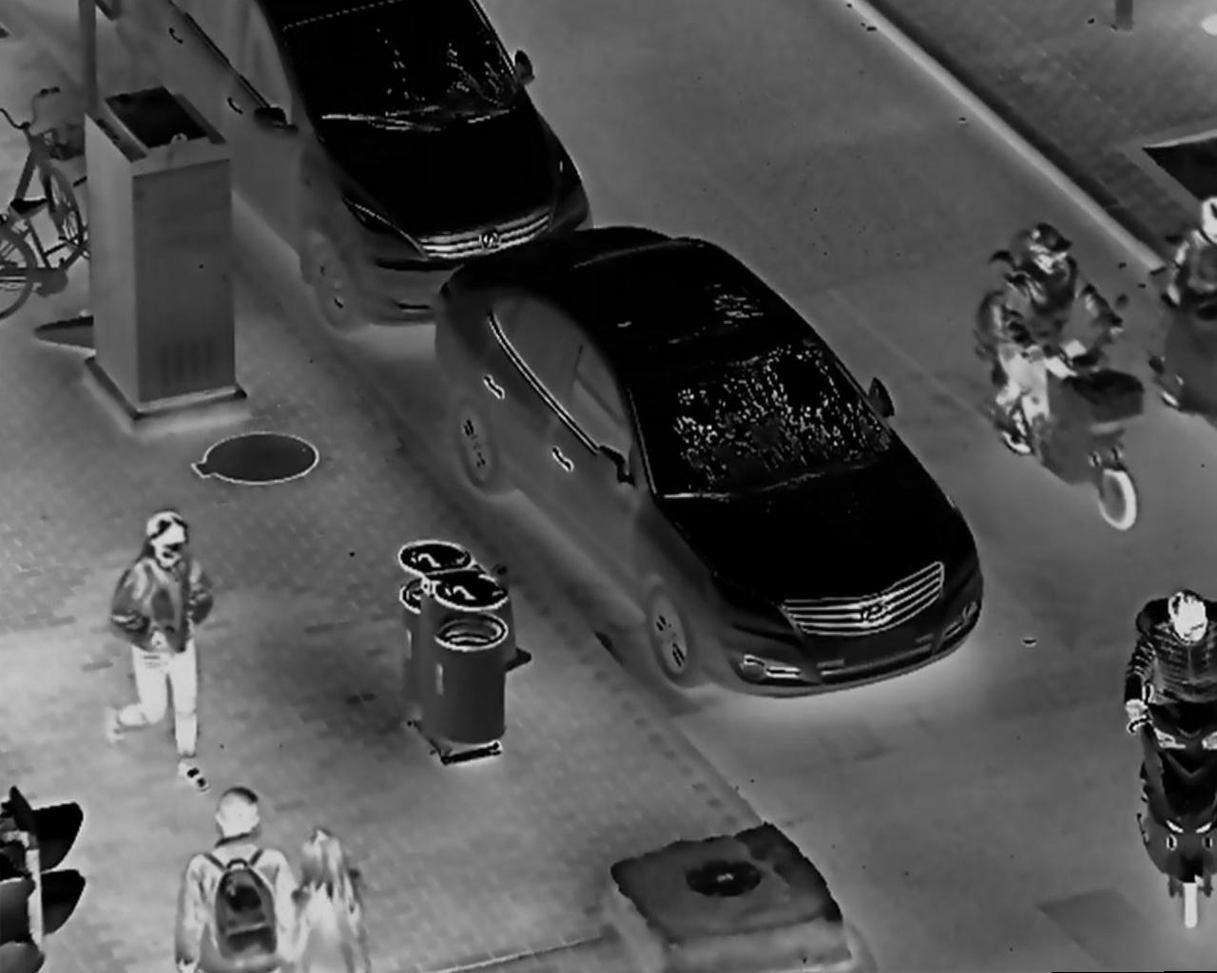person: (99, 507, 223, 792), (978, 219, 1120, 456), (179, 785, 298, 973), (1122, 576, 1217, 782), (276, 828, 381, 973), (1165, 188, 1217, 353)
